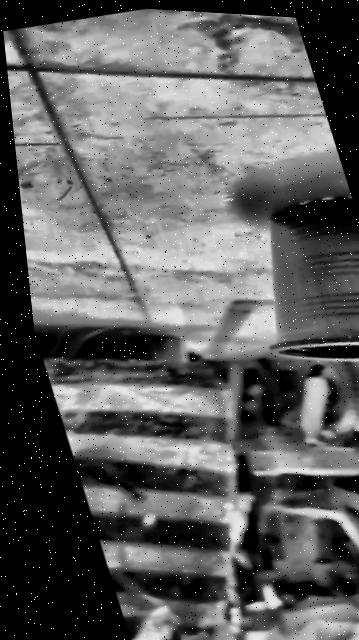pot: (223, 186, 359, 390)
